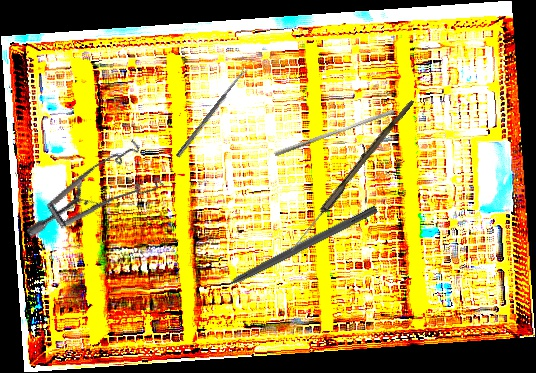Hook Surgical: (206, 203, 379, 298)
Pusher: (273, 104, 396, 162)
Speculum: (24, 115, 177, 284)
Surgical Spoon: (288, 96, 415, 255), (175, 66, 249, 159)
